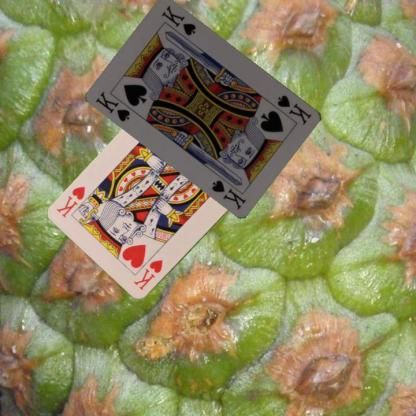Kh: (131, 257, 164, 292)
Ks: (94, 88, 132, 123), (275, 92, 313, 126)
